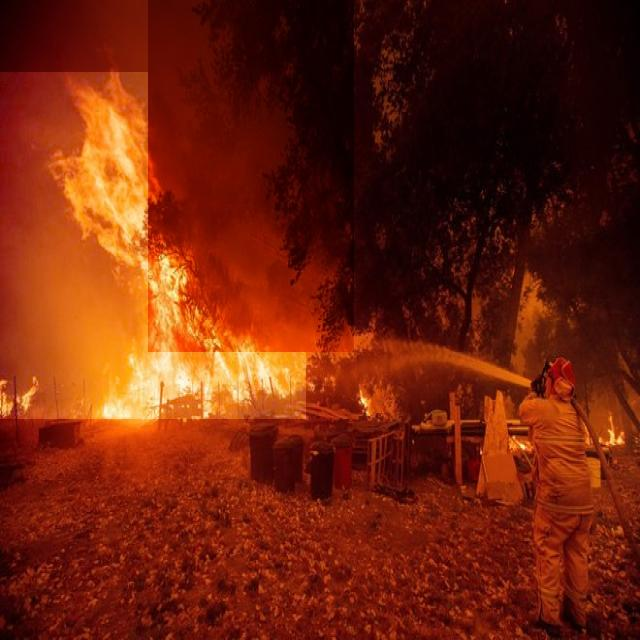Fire: (0, 72, 306, 419)
Smoke: (148, 0, 354, 352)
